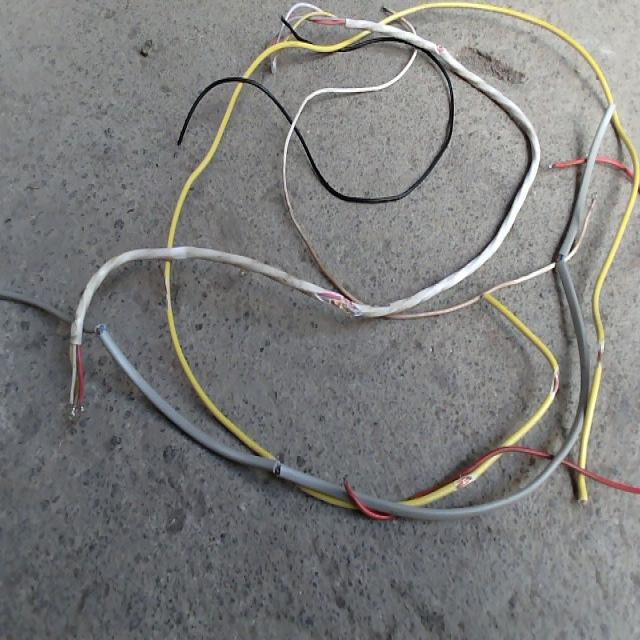-: (313, 288, 362, 320), (92, 320, 109, 340), (453, 474, 472, 489), (595, 340, 604, 367), (271, 459, 284, 477), (551, 369, 558, 400), (433, 40, 444, 53)
